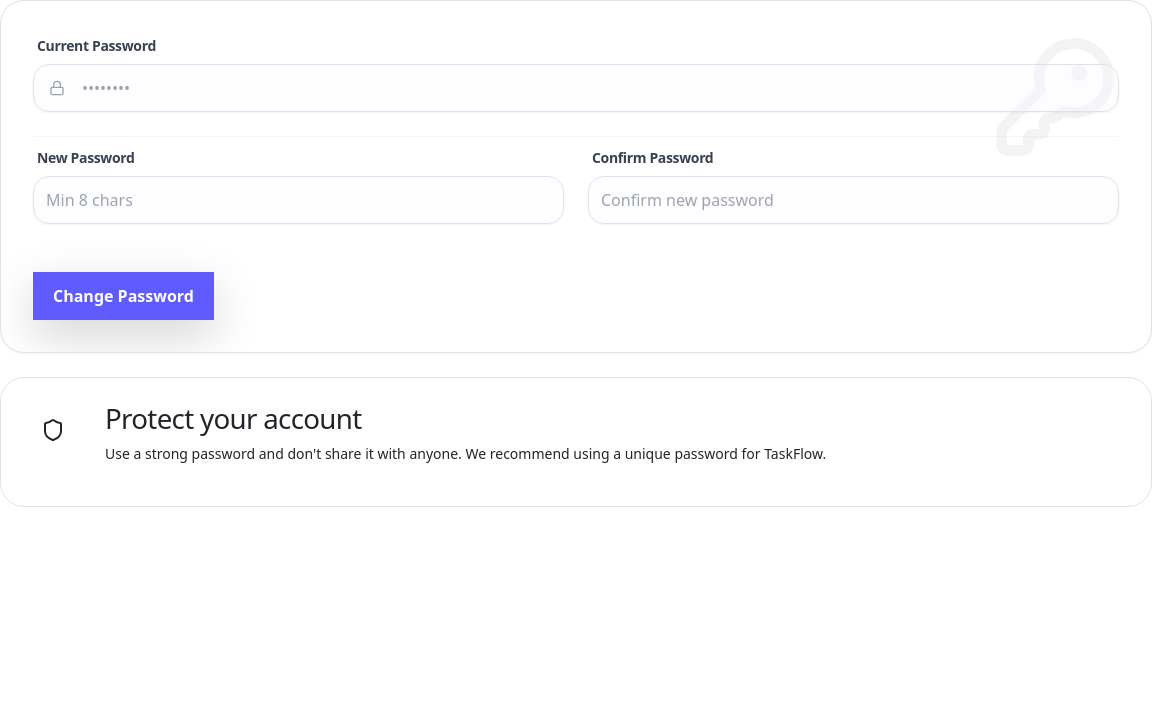
Test case: UpdatePasswordForm › désactive le bouton pendant le chargement
The image size is (1152, 720).
Type "abc12345" into the password field with placeholder "Min 8 chars".
click(298, 200); type("abc12345")  # box top-left (33, 176), bottom-right (564, 224)
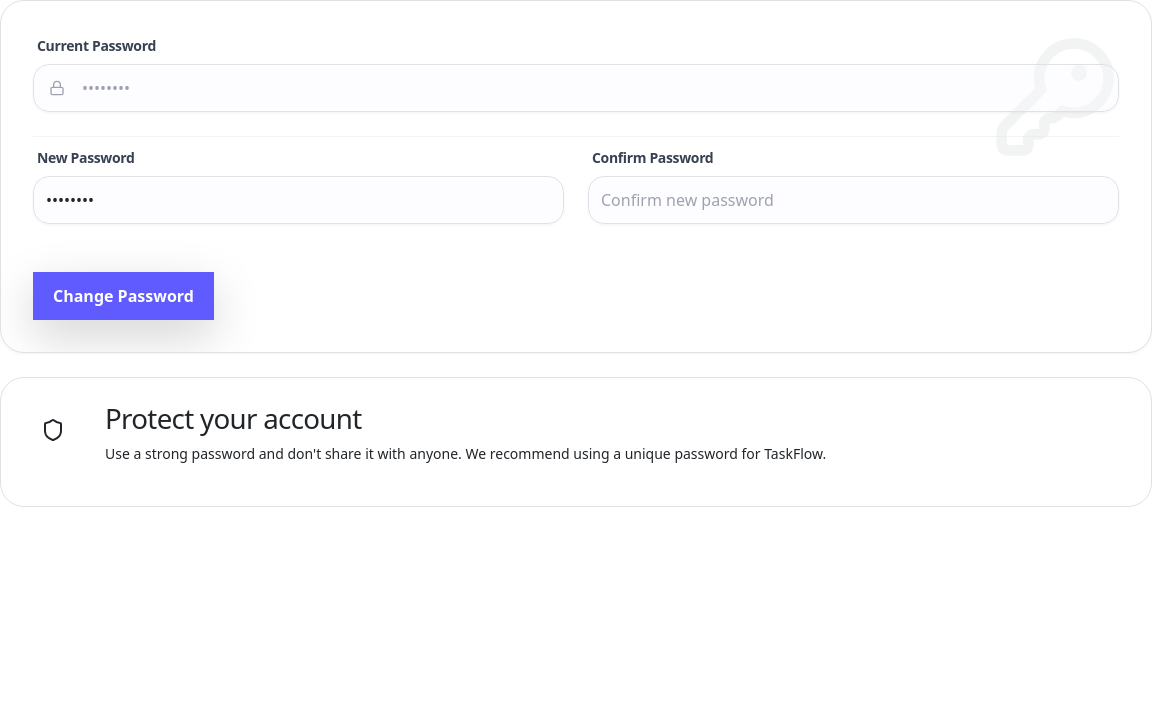
Type "abc12345" into the password field with placeholder "Confirm new password".
click(854, 200); type("abc12345")  # box top-left (588, 176), bottom-right (1119, 224)
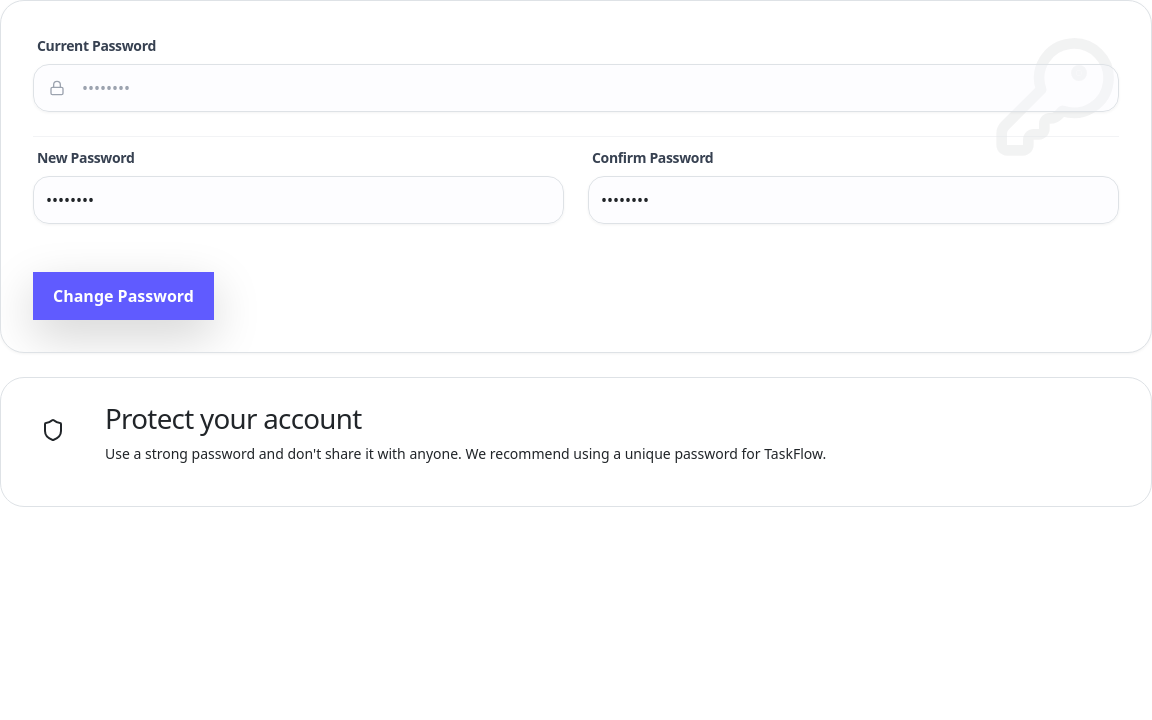
Click the button "Change Password".
click(123, 296)  # box top-left (33, 272), bottom-right (214, 320)
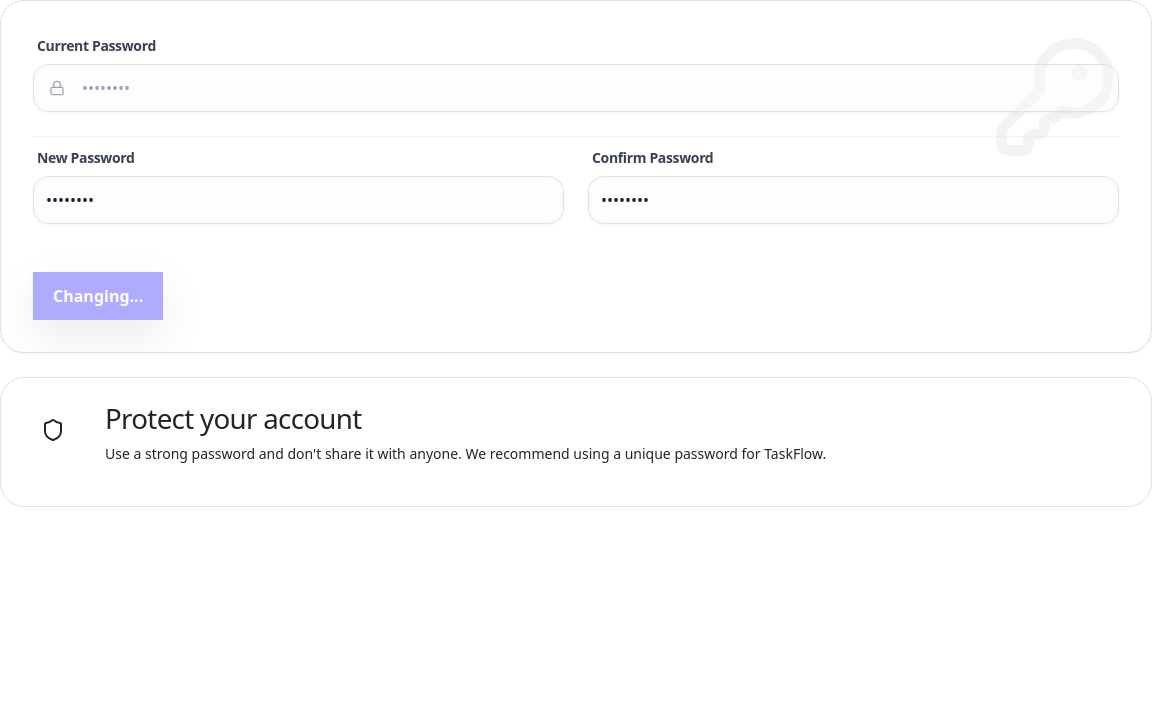
Expected: the button named "Change Password" is disabled, top-left (33, 272), bottom-right (163, 320)
Expected: the button named "Change Password" reads "Changing...", top-left (33, 272), bottom-right (163, 320)
